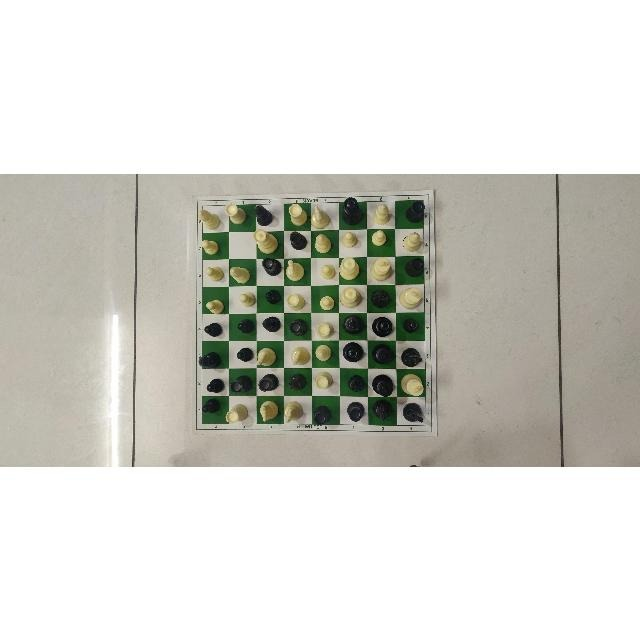black-bishop: (198, 349, 224, 369), (252, 204, 273, 226), (287, 370, 309, 391), (287, 230, 308, 250), (346, 373, 366, 393), (262, 315, 280, 333)
black-king: (371, 342, 395, 366), (370, 373, 395, 395), (342, 311, 364, 334)
black-knight: (400, 401, 425, 425), (371, 397, 393, 420), (400, 346, 424, 366), (370, 287, 390, 308)
black-pawn: (203, 319, 223, 339), (235, 317, 257, 335), (262, 288, 282, 306), (205, 377, 226, 393), (203, 396, 221, 414), (236, 345, 253, 363), (401, 316, 418, 334)
black-queen: (341, 195, 363, 224), (341, 340, 366, 362), (371, 314, 393, 337)
black-rook: (312, 403, 333, 426), (230, 374, 254, 394), (404, 200, 424, 224), (403, 257, 424, 279), (260, 256, 283, 276), (258, 372, 280, 392), (345, 399, 365, 421), (287, 317, 308, 337)
white-bishop: (197, 207, 221, 230), (370, 201, 393, 224), (312, 231, 334, 254), (313, 343, 336, 363), (401, 229, 421, 252), (228, 263, 251, 283)
white-king: (398, 371, 425, 397), (368, 256, 393, 282), (397, 285, 423, 310)
white-knight: (281, 399, 304, 423), (284, 258, 307, 282), (258, 398, 279, 423), (311, 204, 331, 230), (255, 345, 277, 367), (289, 343, 310, 366)
white-pawn: (204, 295, 228, 314), (200, 237, 222, 257), (339, 229, 359, 248), (205, 263, 225, 281), (368, 229, 388, 247), (318, 262, 337, 280), (318, 293, 336, 311), (238, 290, 256, 307)
white-queen: (254, 227, 280, 252), (338, 255, 362, 280), (340, 286, 362, 309)
white-rook: (225, 202, 248, 225), (225, 403, 248, 425), (287, 201, 308, 225), (284, 292, 307, 312), (314, 371, 334, 390), (315, 322, 335, 340)
